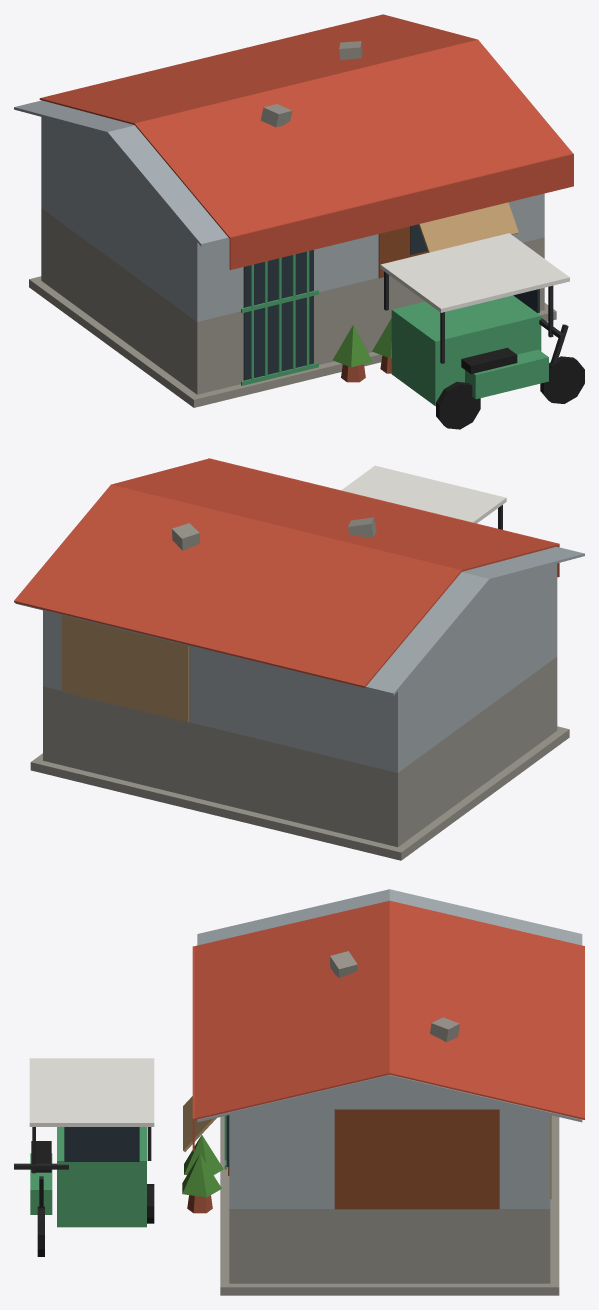
File: BAY_I_TarpShack_H.glb
3 views of the same model, one above another, from view 1: azimuth 30°, elevation 25°; view 2: azimuth 150°, elevation 25°; view 3: azimuth 270°, elevation 25° (orthographic). The views are drawn at different scales.
Visible parts, largest first — view 1: BAY_I_TarpShack_H; view 2: BAY_I_TarpShack_H; view 3: BAY_I_TarpShack_H.
Boxes of the visible parts, bbox=[...] form: BAY_I_TarpShack_H: bbox=[14, 14, 584, 429]; BAY_I_TarpShack_H: bbox=[14, 458, 584, 860]; BAY_I_TarpShack_H: bbox=[14, 889, 584, 1295].
Size of the model in its own units: 4.8 by 2.76 by 6.23.
Materials: 1 (1 with a texture image).
